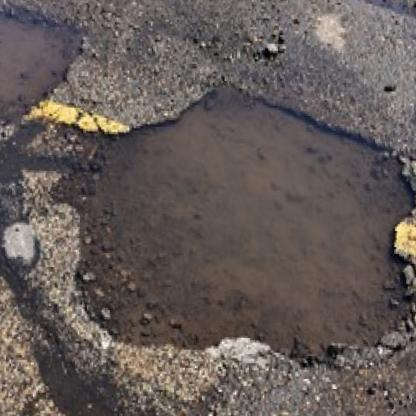pothole: (49, 70, 416, 371), (0, 8, 82, 128)
